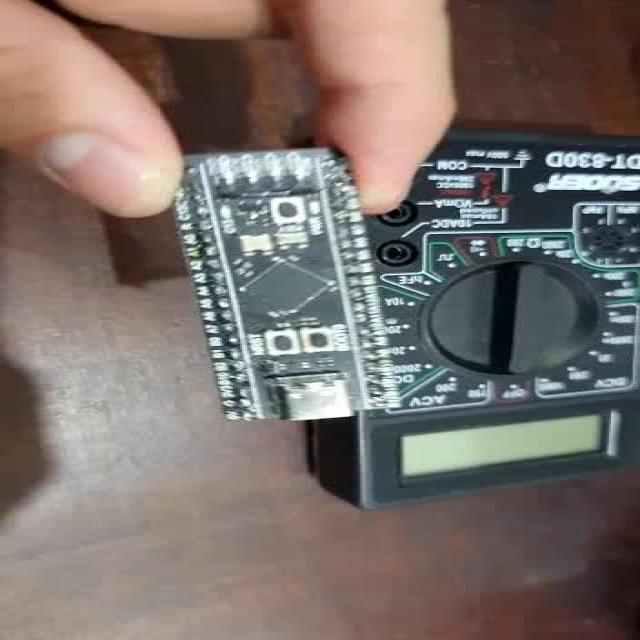multimeter: (407, 134, 640, 508)
stm32: (187, 146, 393, 418)
